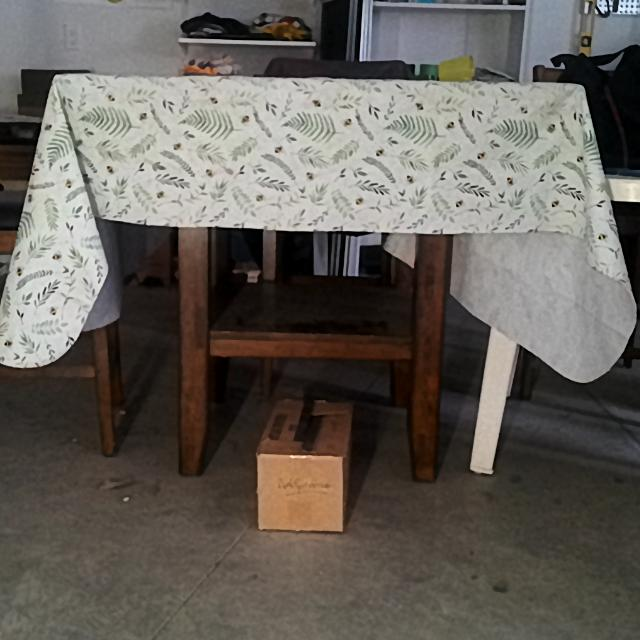box: (257, 455, 341, 530)
